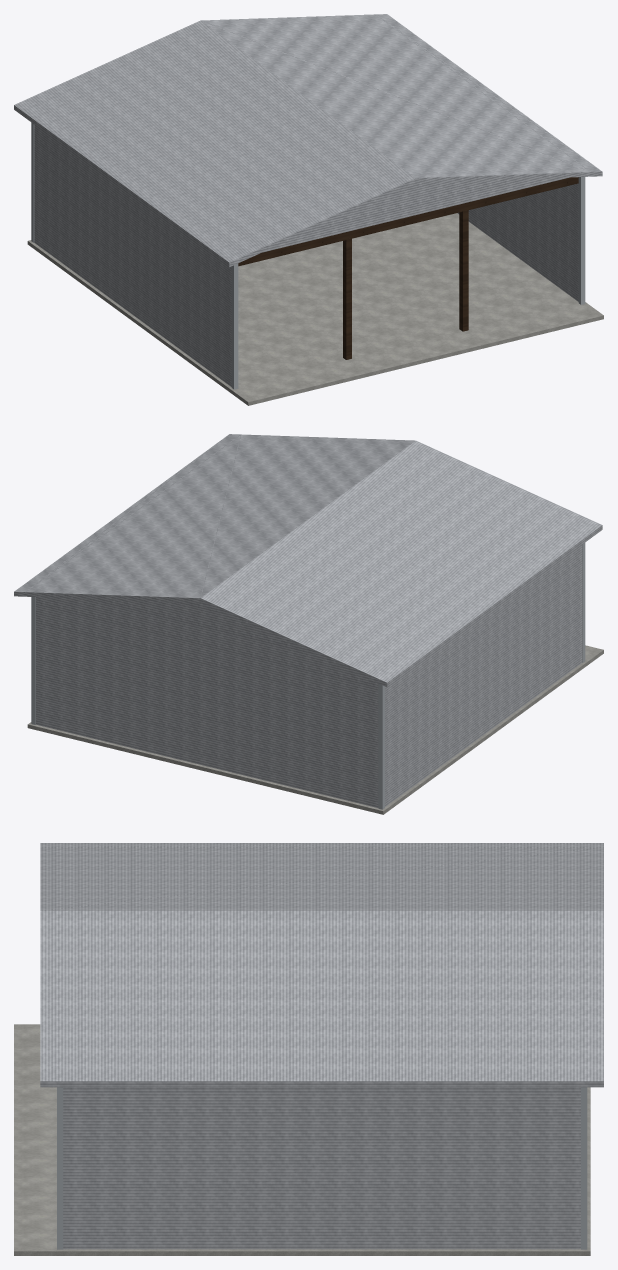
File: machine-shed.glb
3 renders of one model, top to bottom at view 1: azimuth 30°, elevation 25°; view 2: azimuth 150°, elevation 25°; view 3: azimuth 270°, elevation 25°, orthographic. The views are drawn at different scales.
Visible parts, largest first — view 1: MachineShed; view 2: MachineShed; view 3: MachineShed.
Boxes of the visible parts, left/top/right/bottom form: MachineShed: left=14, top=14, right=603, bottom=405; MachineShed: left=14, top=434, right=603, bottom=814; MachineShed: left=14, top=843, right=603, bottom=1255.
Bounding box in the file's own units: 12.8 × 5.8 × 13.4.
Materials: 6 (4 with a texture image).
